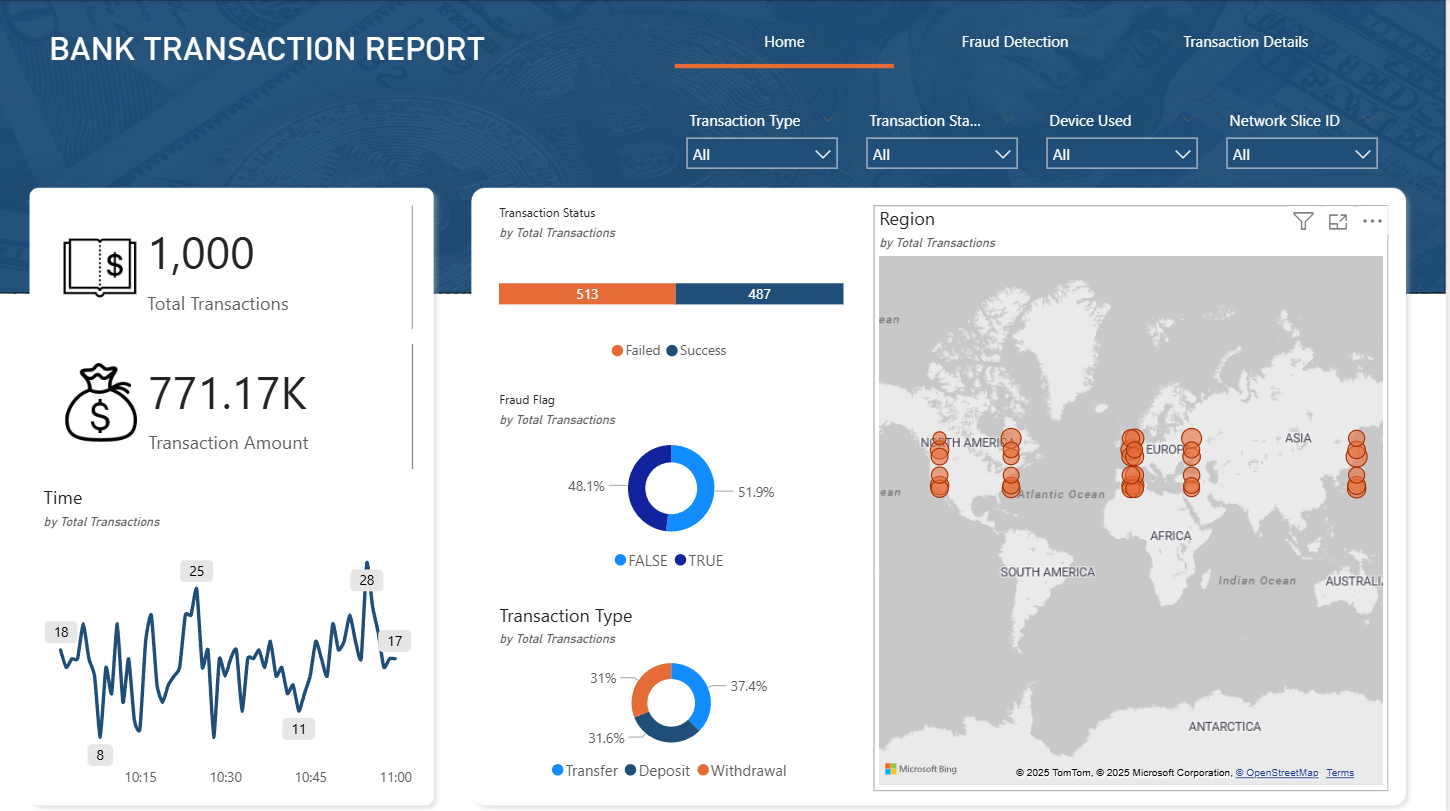

What the dashboard file says about the page in this screenshot:
{"tool":"powerbi","page":{"name":"Home","canvas":[1280,720],"ordinal":0},"visuals":[{"type":"cardVisual","fields":{"Data":["bank transaction_data.Total Transactions"]},"box":[46.1,181,325,109.5],"z":0},{"type":"cardVisual","fields":{"Data":["bank transaction_data.Total Transactions Amount"]},"box":[46.7,303.4,324.8,110.3],"z":1000},{"type":"lineChart","title":"Time","fields":{"Category":["bank transaction_data.Time"],"Y":["bank transaction_data.Total Transactions"]},"box":[46.2,426.6,324.4,270.5],"z":2000},{"type":"barChart","title":"Transaction Status","fields":{"Y":["bank transaction_data.Total Transactions"],"Series":["bank transaction_data.Transaction Status"]},"box":[441.5,180.3,313.1,147.2],"z":3000},{"type":"donutChart","title":"Fraud Flag","fields":{"Category":["bank transaction_data.Fraud Flag"],"Y":["bank transaction_data.Total Transactions"]},"box":[441.5,344.8,313.1,167.4],"z":4000},{"type":"donutChart","title":"Transaction Type","fields":{"Y":["bank transaction_data.Total Transactions"],"Category":["bank transaction_data.Transaction Type"]},"box":[441.5,529.5,313.1,167.4],"z":5000},{"type":"map","title":"Region","fields":{"Size":["bank transaction_data.Total Transactions"],"Y":["bank transaction_data.Latitude Value"],"X":["bank transaction_data.Longitude Value"]},"box":[776.3,181.4,453,515.7],"z":6000},{"type":"slicer","fields":{"Values":["bank transaction_data.Network Slice ID"]},"box":[1076.3,92.3,152.9,60.6],"z":7000},{"type":"slicer","fields":{"Values":["bank transaction_data.Device Used"]},"box":[918.1,92.3,152.9,60.6],"z":8000},{"type":"slicer","fields":{"Values":["bank transaction_data.Transaction Status"]},"box":[759.9,92.3,152.9,60.6],"z":9000},{"type":"slicer","fields":{"Values":["bank transaction_data.Transaction Type"]},"box":[601.6,92.3,152.9,60.6],"z":10000},{"type":"textbox","box":[46.2,21.6,466,60.6],"z":11000},{"type":"pageNavigator","box":[601.5,12.1,600.4,49.5],"z":12000}]}

Visuals, with their boxes in screenshot pixels (x1, y1, x2, y2), scaled from the page's 1280x720 canvas onto the 1450x811 screenshot:
cardVisual - bank transaction_data.Total Transactions: left=52, top=204, right=420, bottom=327
cardVisual - bank transaction_data.Total Transactions Amount: left=53, top=342, right=421, bottom=466
"Time" lineChart: left=52, top=481, right=420, bottom=785
"Transaction Status" barChart: left=500, top=203, right=855, bottom=369
"Fraud Flag" donutChart: left=500, top=388, right=855, bottom=577
"Transaction Type" donutChart: left=500, top=596, right=855, bottom=785
"Region" map: left=879, top=204, right=1393, bottom=785
slicer - bank transaction_data.Network Slice ID: left=1219, top=104, right=1392, bottom=172
slicer - bank transaction_data.Device Used: left=1040, top=104, right=1213, bottom=172
slicer - bank transaction_data.Transaction Status: left=861, top=104, right=1034, bottom=172
slicer - bank transaction_data.Transaction Type: left=682, top=104, right=855, bottom=172
textbox: left=52, top=24, right=580, bottom=93
pageNavigator: left=681, top=14, right=1362, bottom=69
